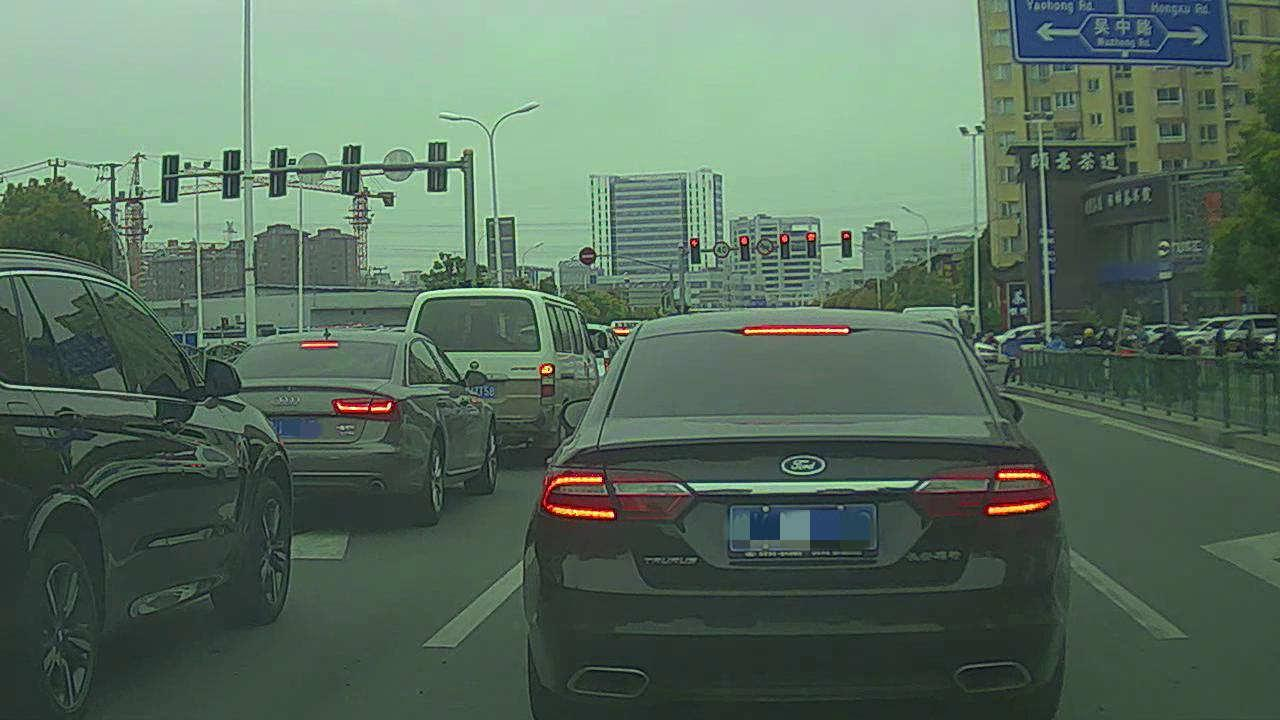traffic_light: (839, 231, 854, 259), (805, 232, 819, 258), (690, 236, 702, 266), (738, 236, 751, 261), (780, 233, 790, 259)
